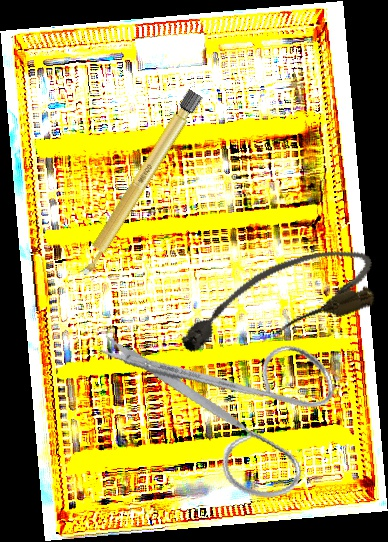Cannula: (167, 235, 385, 367)
Iris Scissors: (93, 285, 356, 530)
Scalpel Handle: (75, 88, 204, 279)
